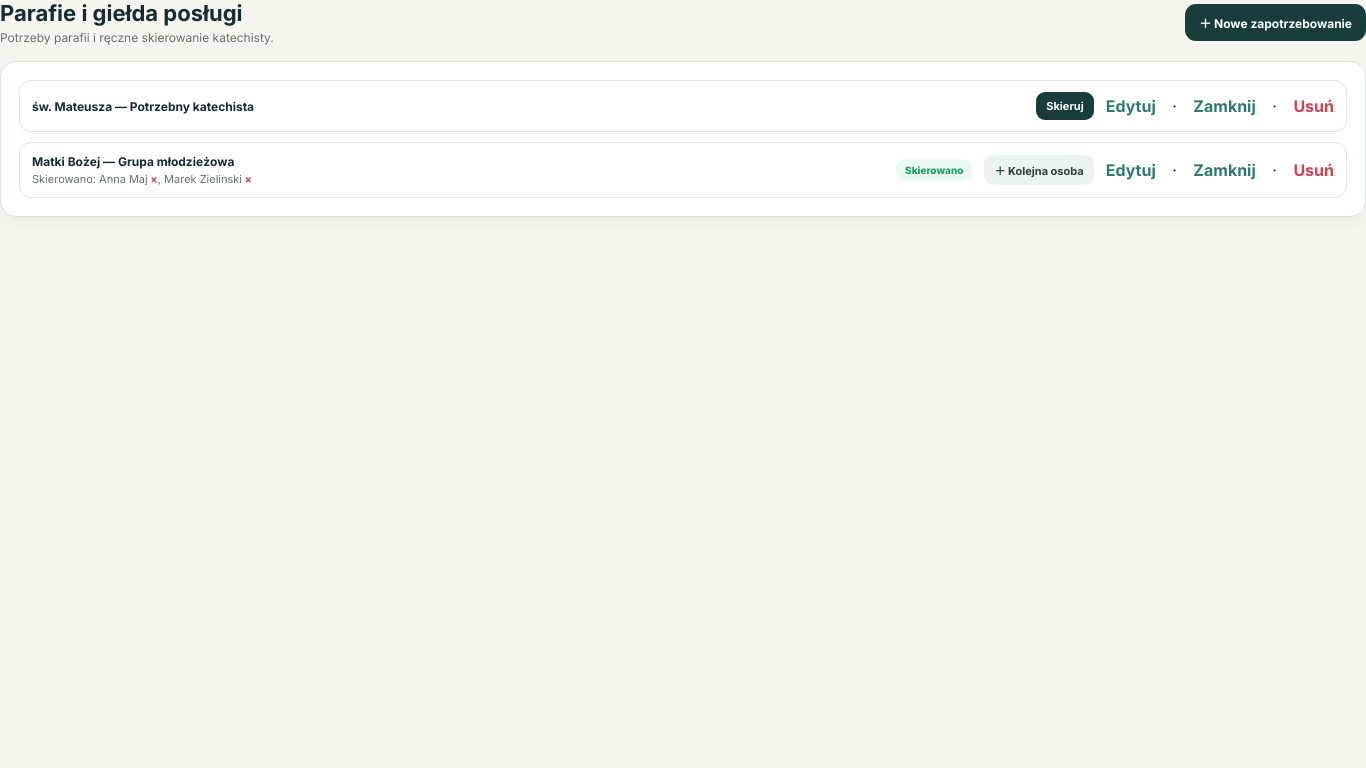
Test case: ParishBoardComponent › adding a need › posts the chosen parish and description, confirms and reloads
Click the button "＋ Nowe zapotrzebowanie" at (1276, 22), box [1185, 4, 1365, 41]
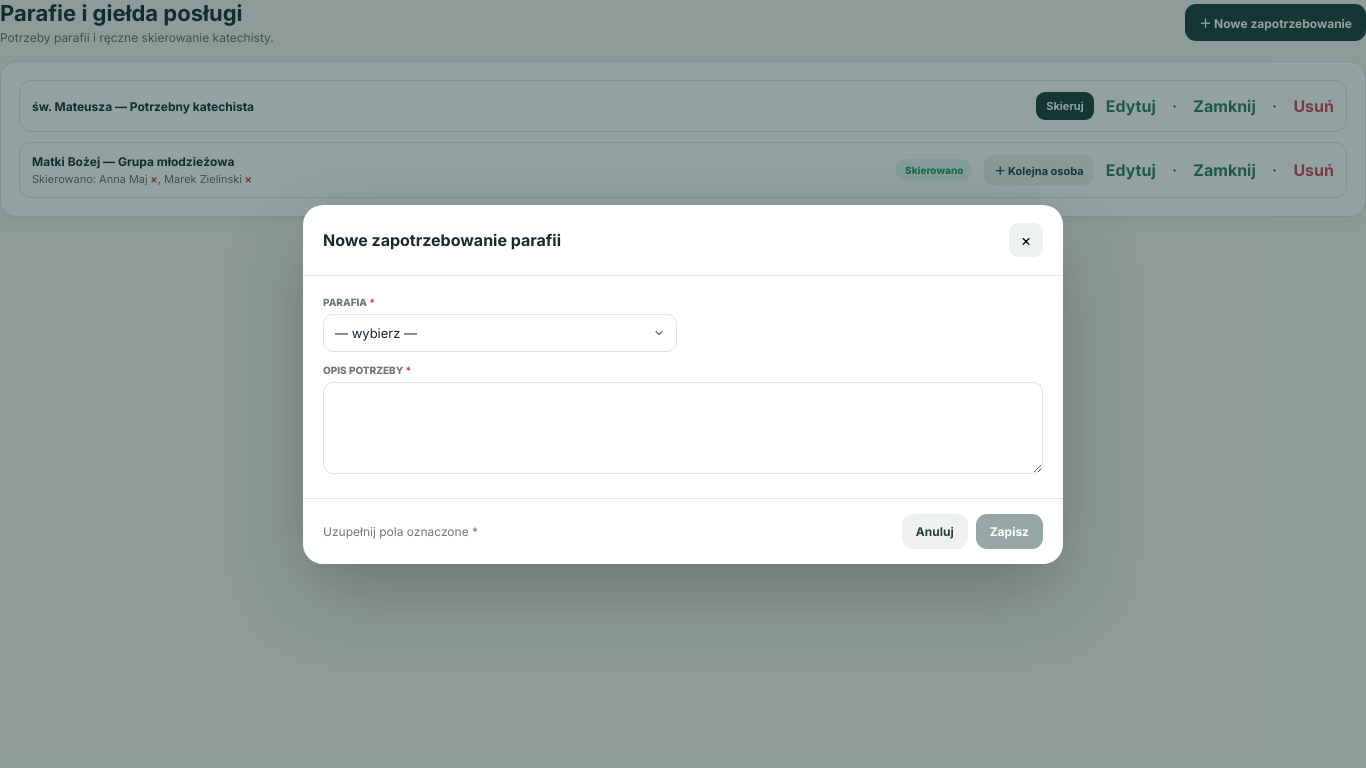
Select "Matki Bożej" in the dropdown at (500, 332), box [323, 314, 677, 352]
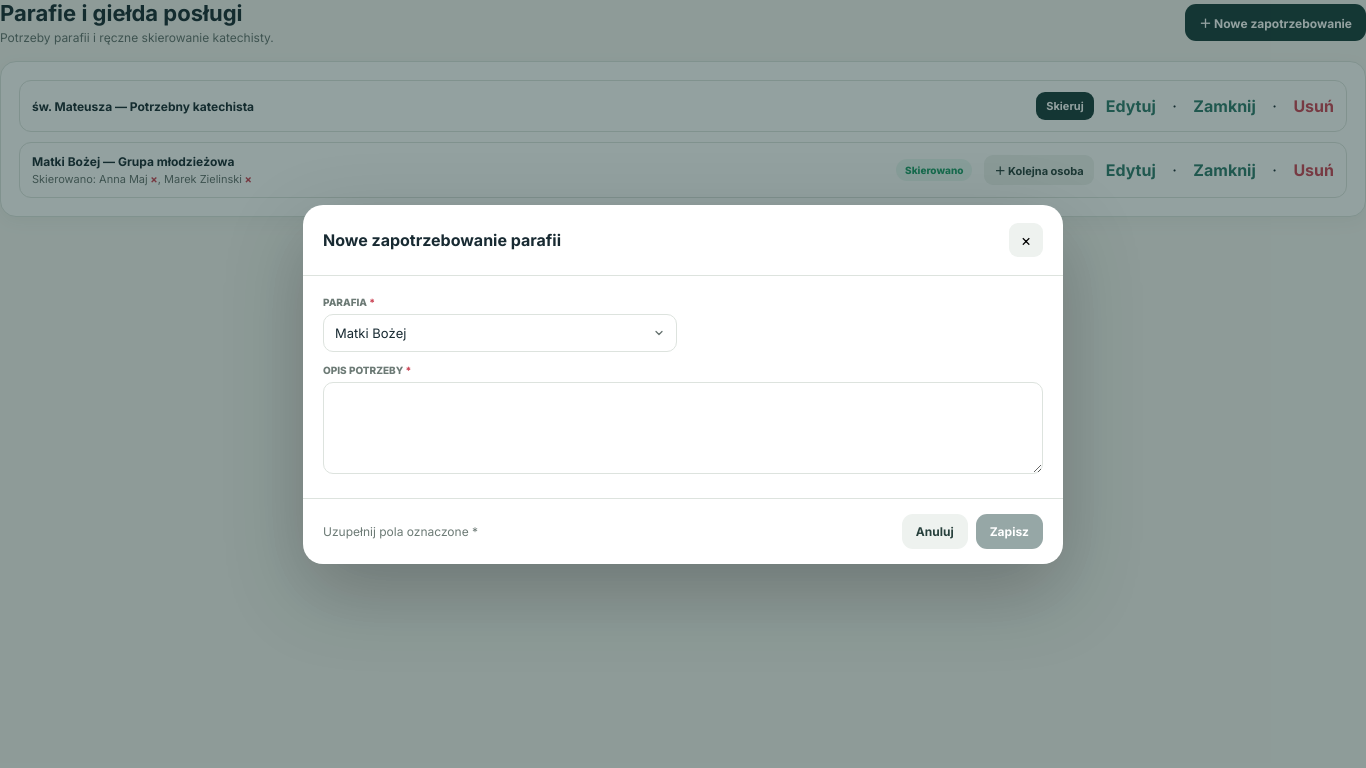
Type "Potrzebny wikariusz" into the text box at (683, 428), box [323, 382, 1043, 474]
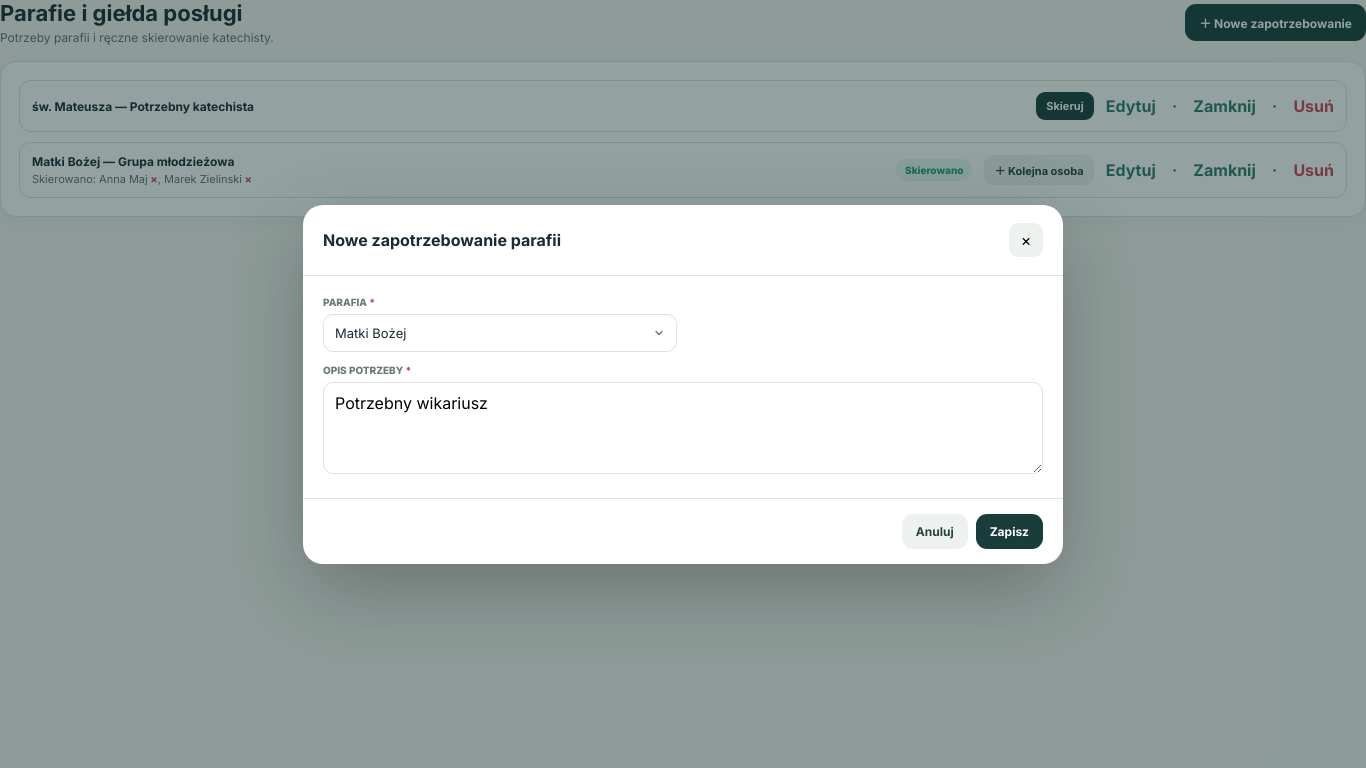
Click the button "Zapisz" at (1009, 531), box [976, 514, 1043, 548]
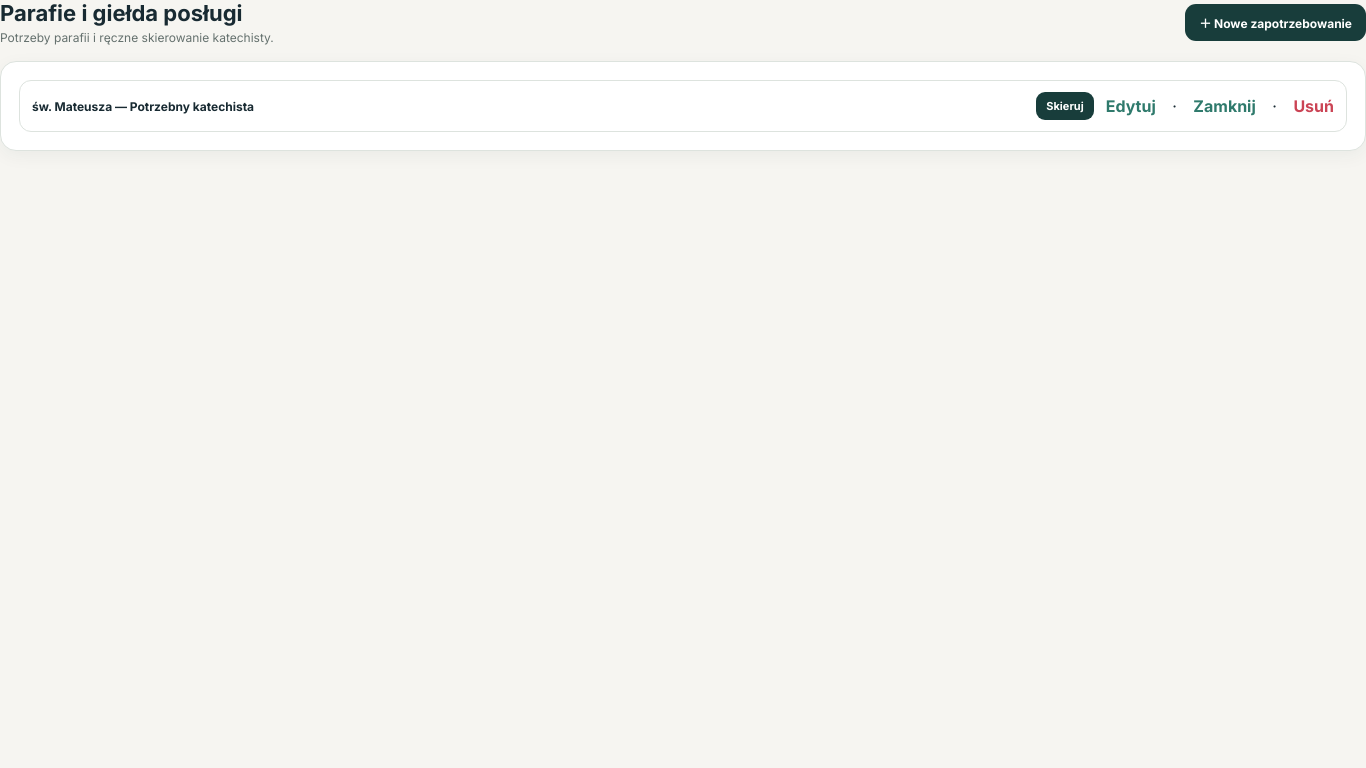
Now the element with class "modal" is gone
